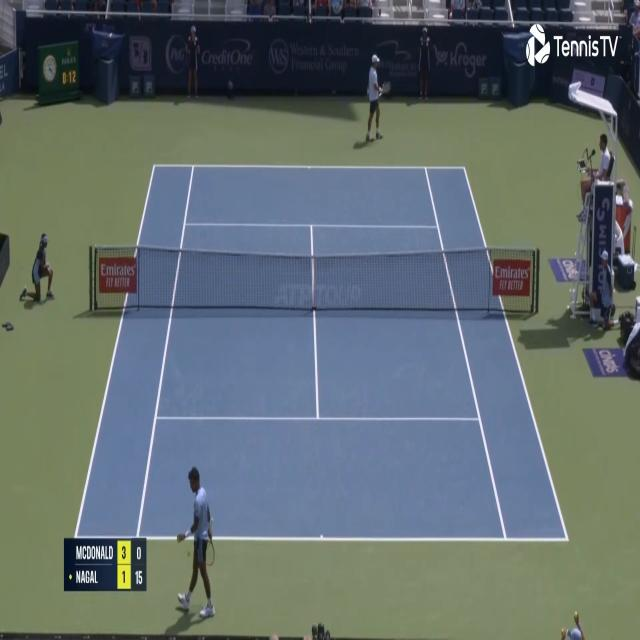tennis-player: (174, 463, 218, 623), (366, 47, 392, 142)
